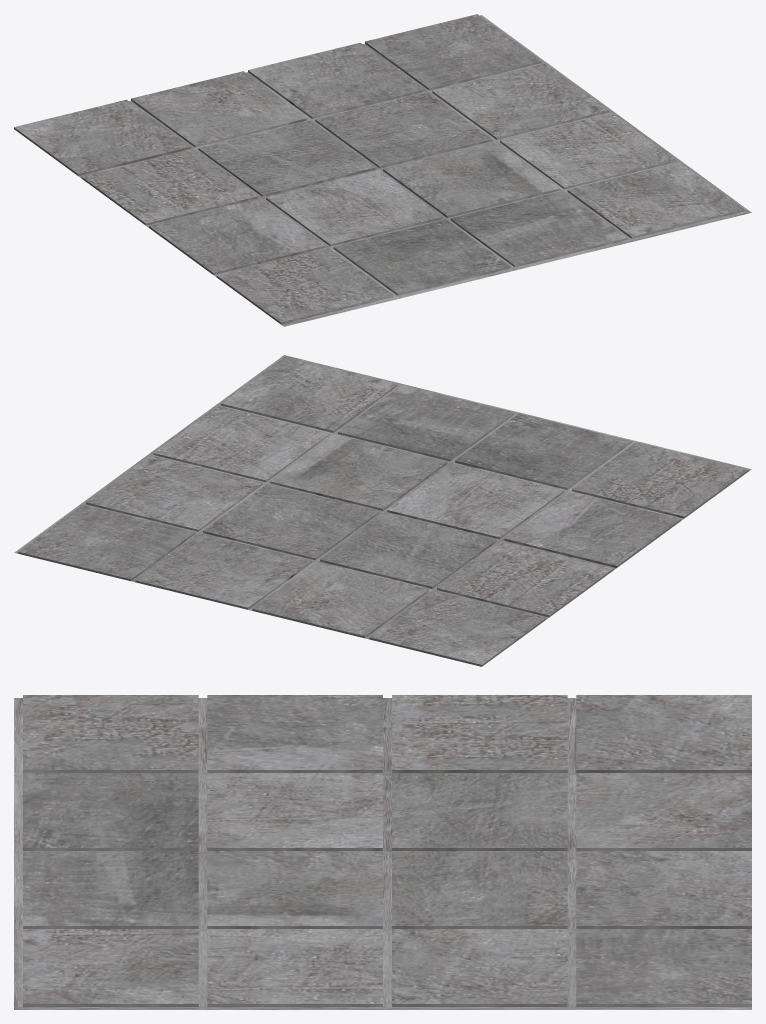
Rendered from Piso_020.fbx.
The picture shows the model from 3 angles, top to bottom: view 1: azimuth 30°, elevation 25°; view 2: azimuth 150°, elevation 25°; view 3: azimuth 270°, elevation 25°; orthographic projection. The views are drawn at different scales.
Visible parts, largest first — view 1: Plane; view 2: Plane; view 3: Plane.
Boxes of the visible parts, x1,y1,x2,y2 form: Plane: (14, 14, 751, 326); Plane: (14, 355, 751, 666); Plane: (14, 695, 751, 1009).
Size of the model in its own units: 600 by 2.51 by 600.
